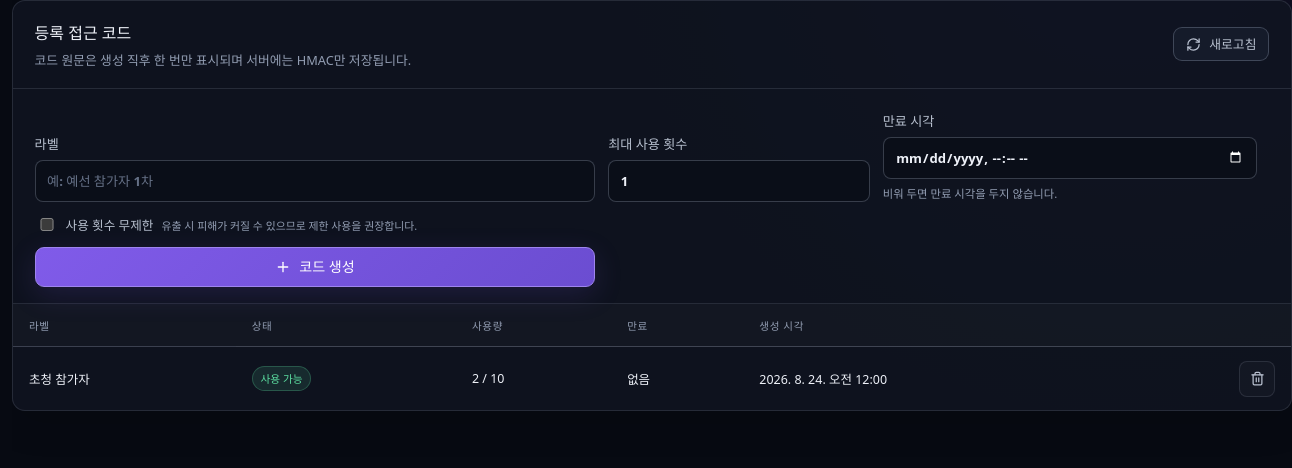
Scenario: admin registration-code controls › requires confirmation, revokes a code, and removes any revealed plaintext
The width and height of the screenshot is (1292, 468).
Click the button named "초청 참가자 코드 폐기" at (1257, 379), box top-left (1239, 361), bottom-right (1275, 397)
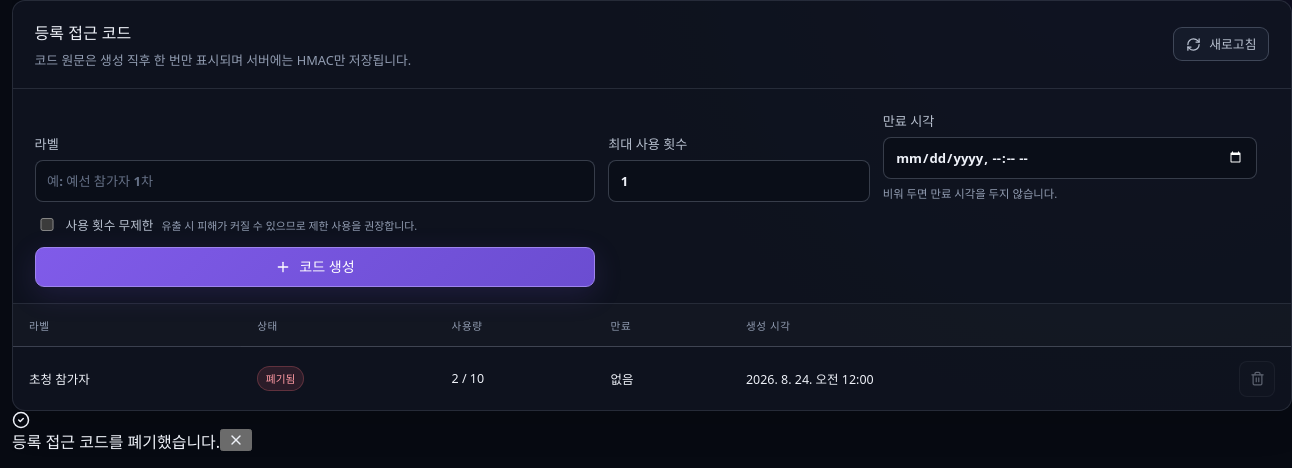
Check: the text "폐기됨" is shown, box top-left (257, 366), bottom-right (304, 391)
Check: the button named "초청 참가자 코드 폐기" is disabled, box top-left (1239, 361), bottom-right (1275, 397)
